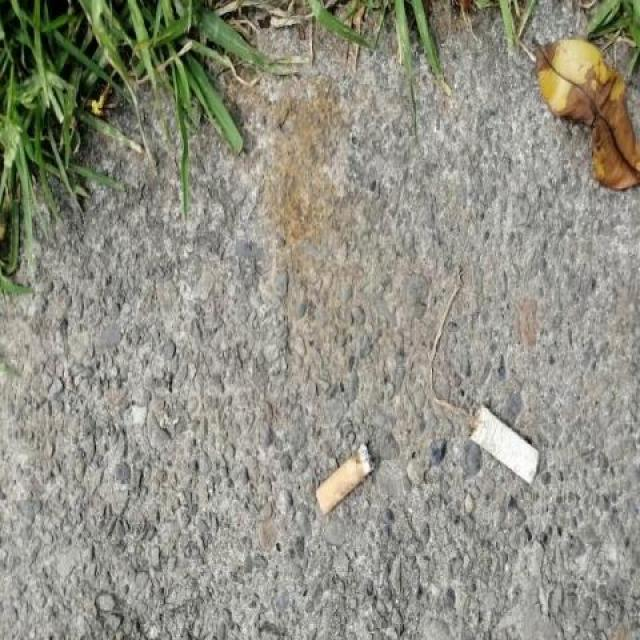non-organic waste: (464, 398, 543, 487), (313, 438, 379, 518)
